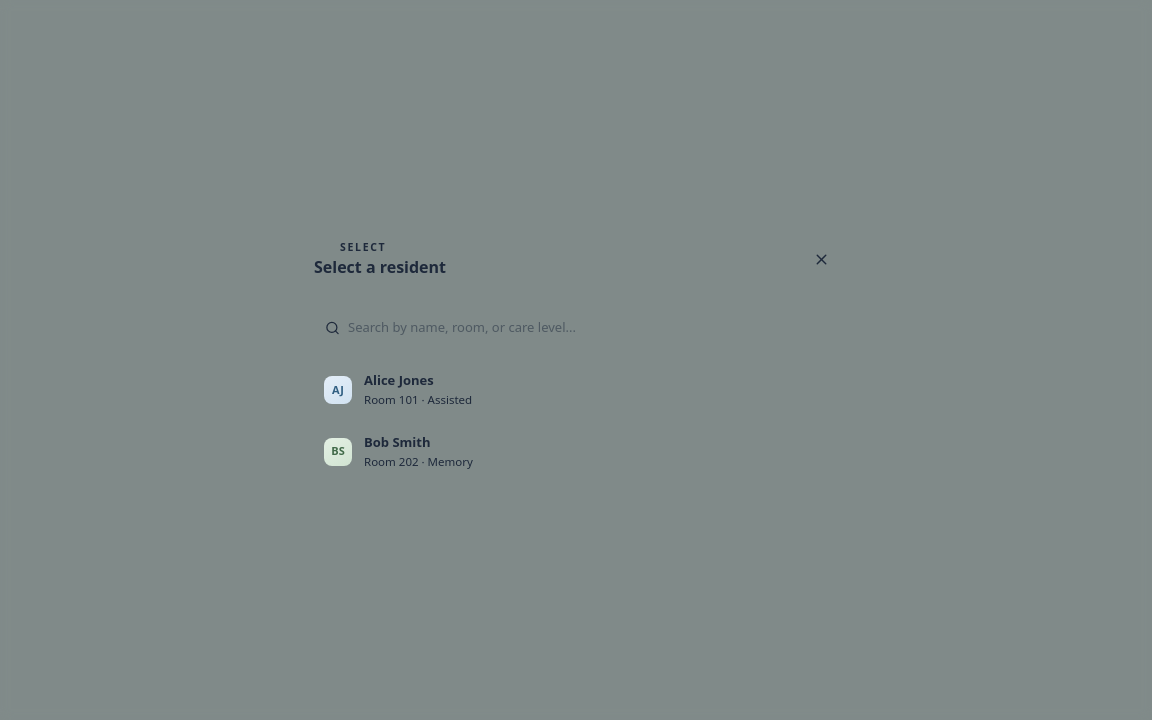
Scenario: ResidentPickerModal › filters by memory
Expected: the text "Alice Jones" is shown, [364,371,434,389]
Step 1. Type "memory" into the field named "Search residents" → (484, 328), box [314,309,654,347]
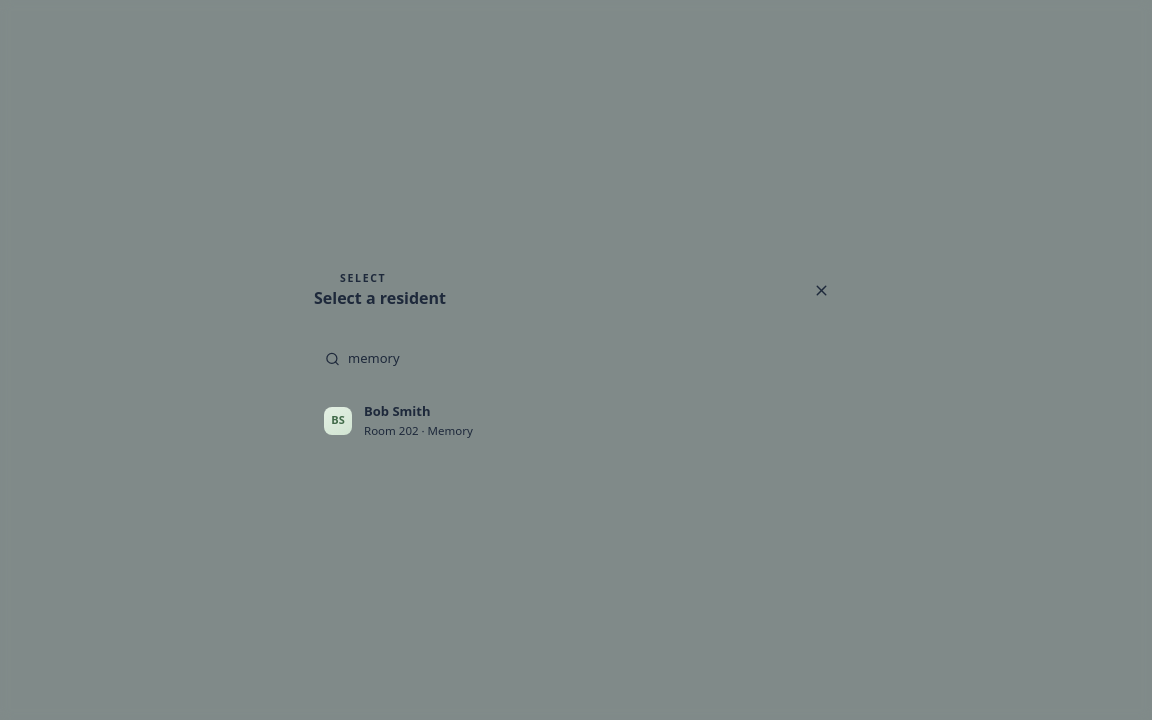
Expected: the text "Bob Smith" is shown, [364,402,430,420]
Now the number of buttons "BS Bob Smith Room 202 · Memory" is 1, box [306,390,846,452]
